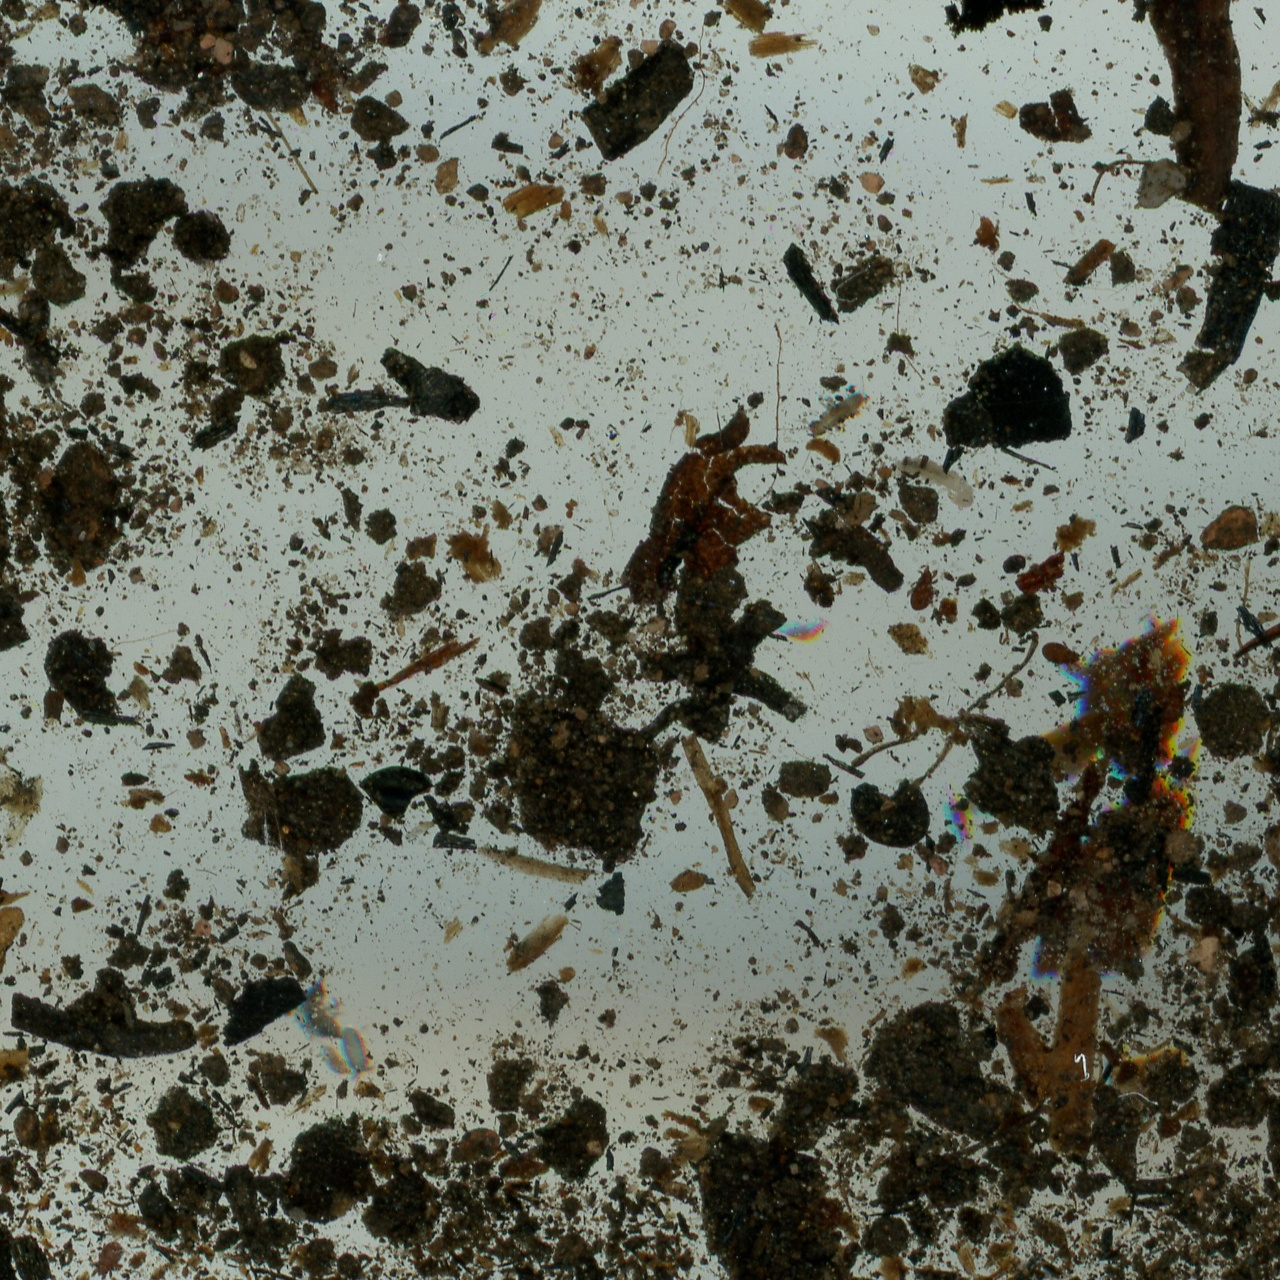arthropod: (298, 972, 343, 1047), (331, 1020, 380, 1085), (86, 1233, 129, 1280), (1150, 260, 1198, 295), (319, 1040, 354, 1080)
